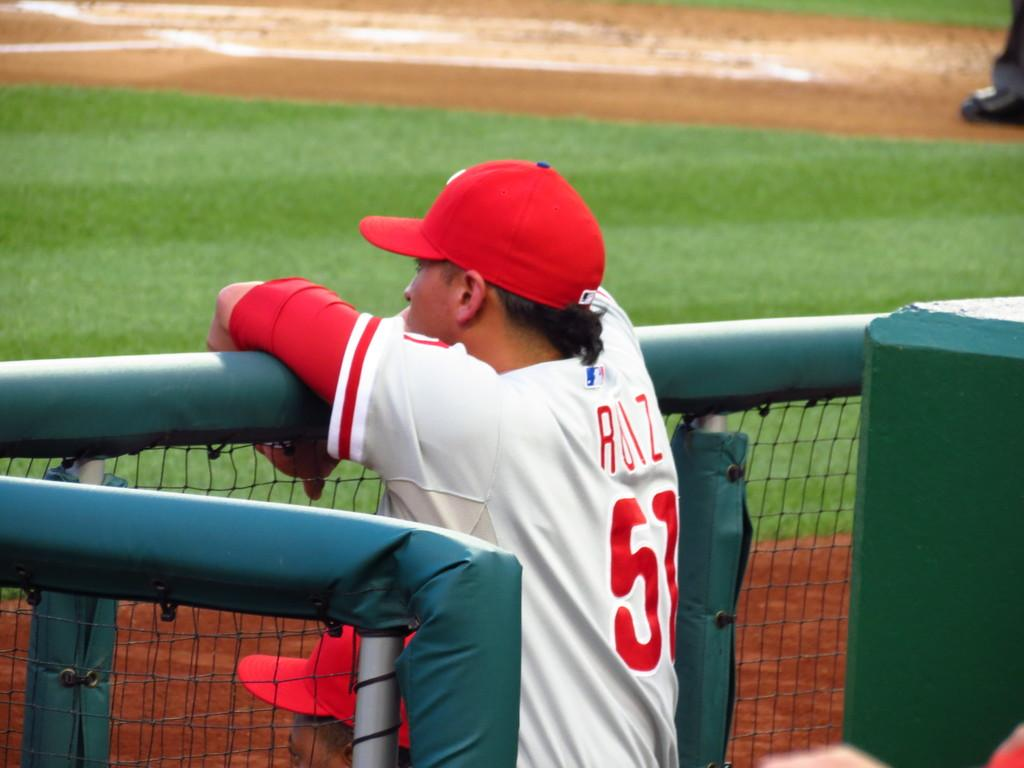Hat: (359, 159, 605, 310), (236, 622, 412, 746)
